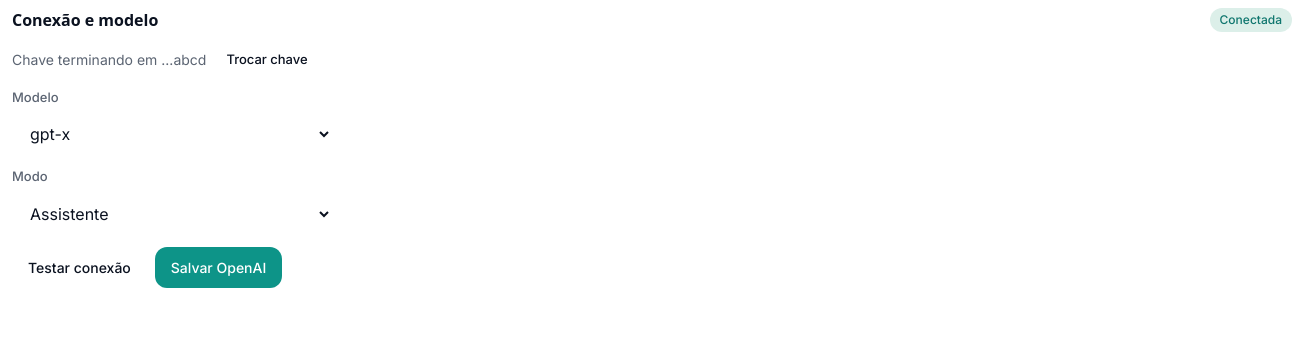
Scenario: OpenAiConfigCard › a failed test shows the error and does not save
Click the button "Testar conexão" at (79, 267), box [12,246,147,288]
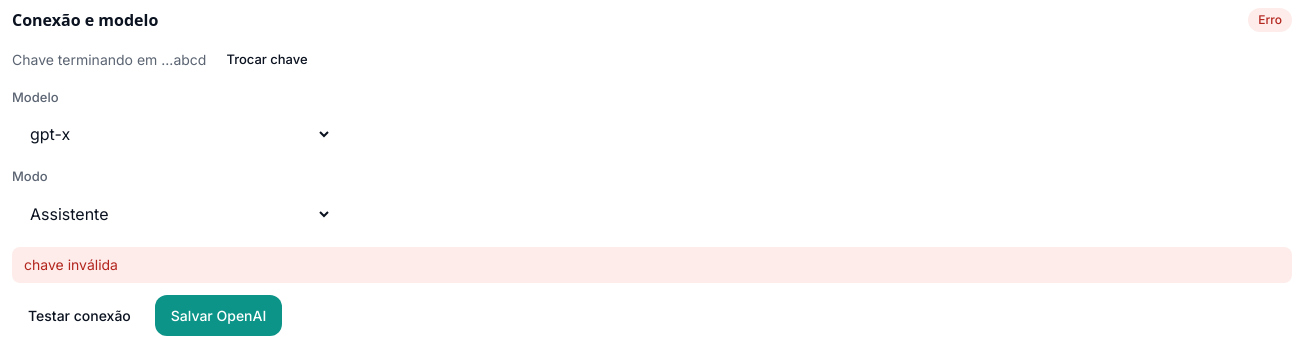
Result: the text "chave inválida" is shown at [12,246,1291,282]
